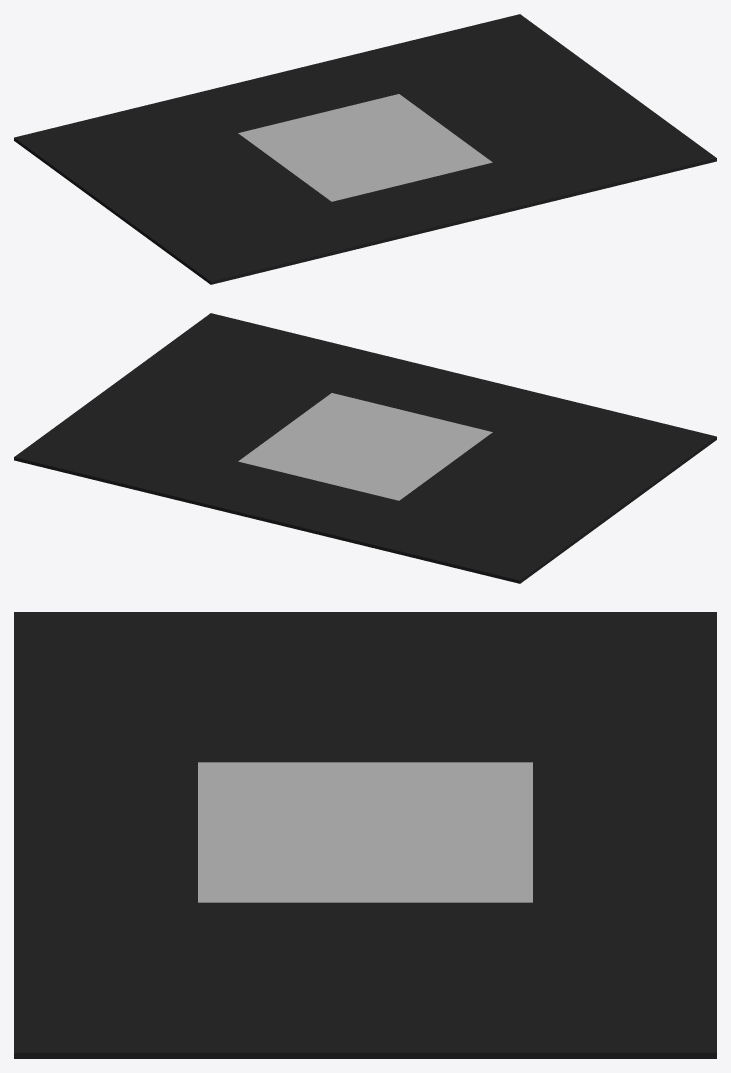
The model's file is roofpaintings.fbx.
3 renders of one model, top to bottom at view 1: azimuth 30°, elevation 25°; view 2: azimuth 150°, elevation 25°; view 3: azimuth 270°, elevation 25°, orthographic. The views are drawn at different scales.
Visible parts, largest first — view 1: roof; view 2: roof; view 3: roof.
Boxes of the visible parts, x1,y1,x2,y2 form: roof: (14,14,716,284); roof: (14,313,716,583); roof: (14,612,716,1058).
Size of the model in its own units: 20746 by 249 by 13978.
